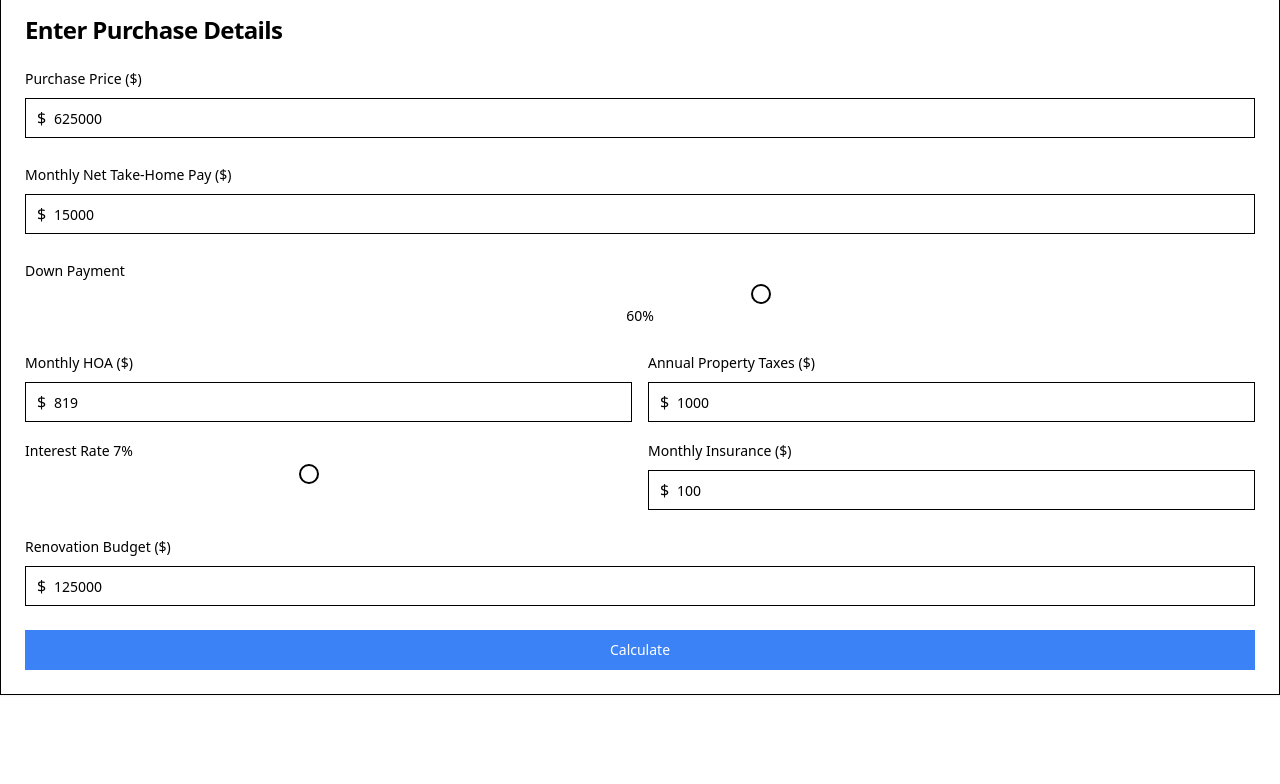
Test: Calculator Component › shows warning when monthly payment exceeds recommended percentage
The width and height of the screenshot is (1280, 784).
Replace the text in the number field labelled "Purchase Price ($)" with "1000000": coordinates (640, 118) x1=25 y1=98 x2=1255 y2=138
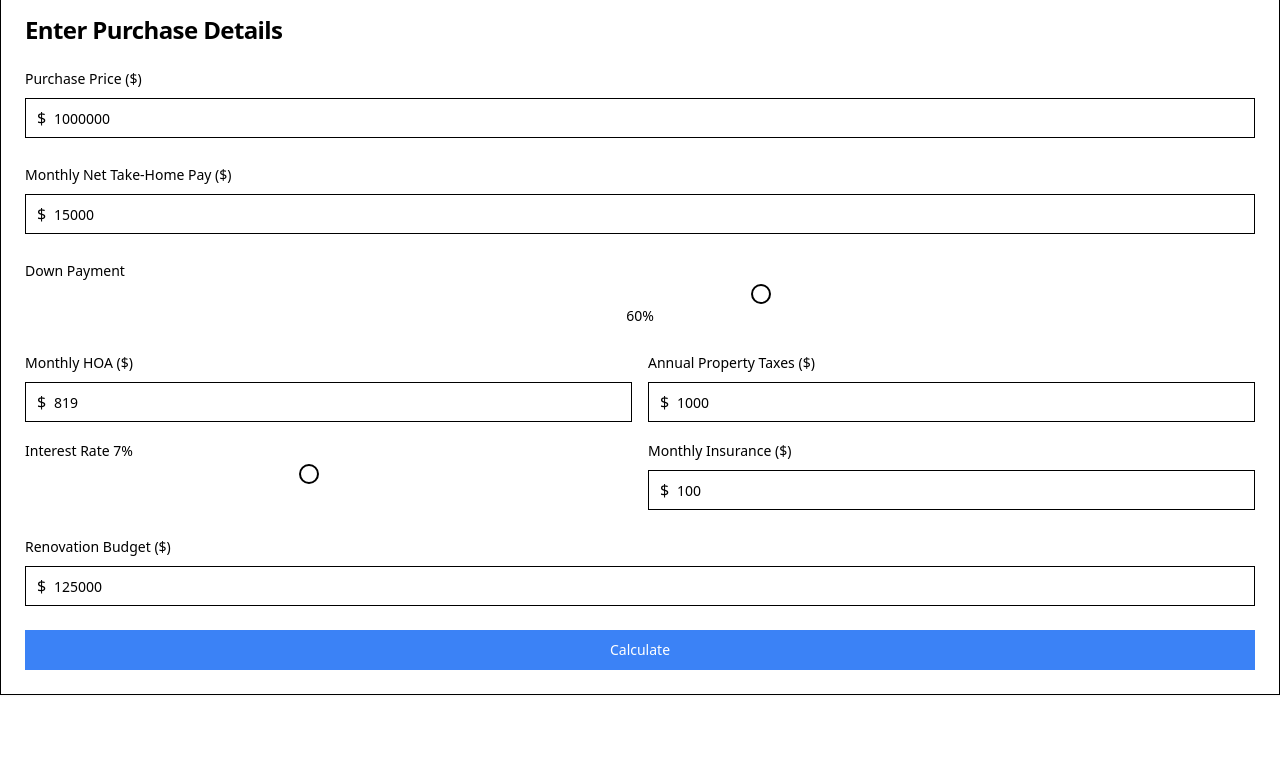
Replace the text in the number field labelled "Monthly Net Take-Home Pay ($)" with "5000": coordinates (640, 214) x1=25 y1=194 x2=1255 y2=234
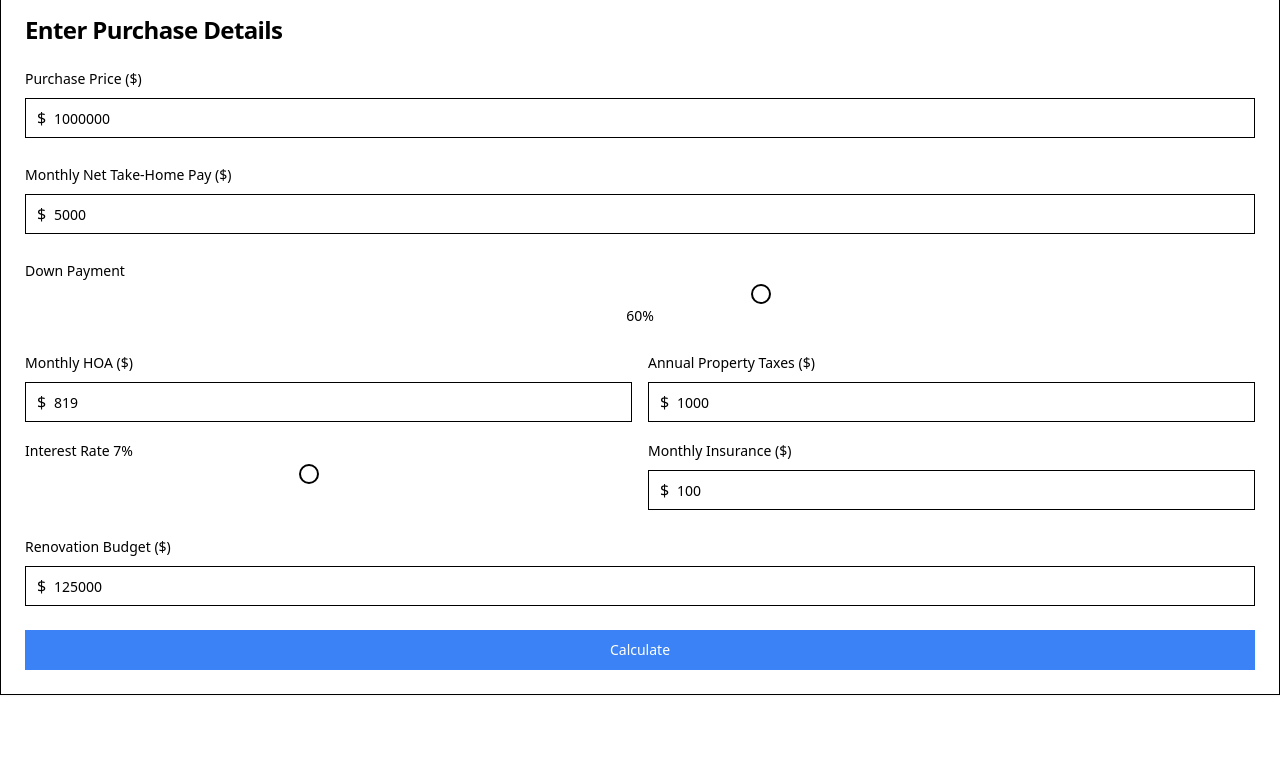
Note: Wait for the Results component to update and click the Calculate button
Click the button "Calculate": coordinates (640, 650) x1=25 y1=630 x2=1255 y2=670
(page scrolled)
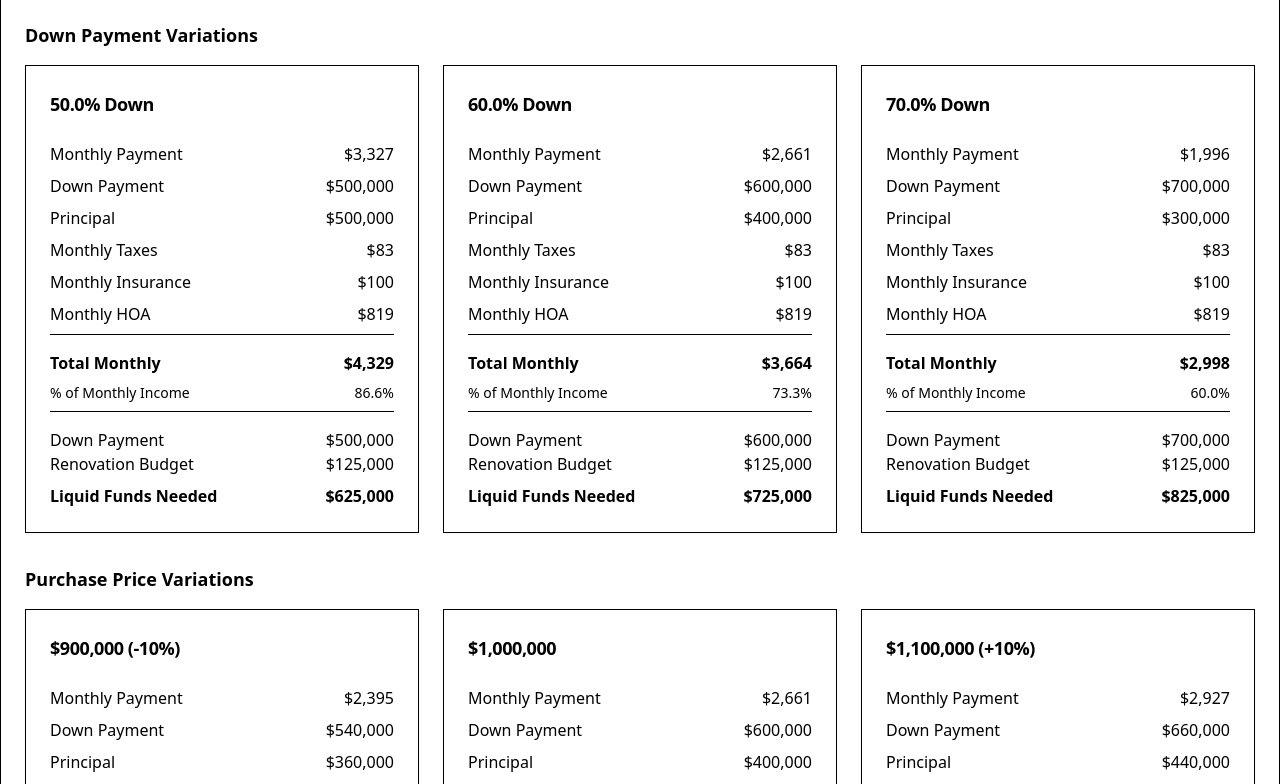
Result: the text "% of Monthly Income" in the row of "86.6%" is shown at x1=50 y1=383 x2=190 y2=402
